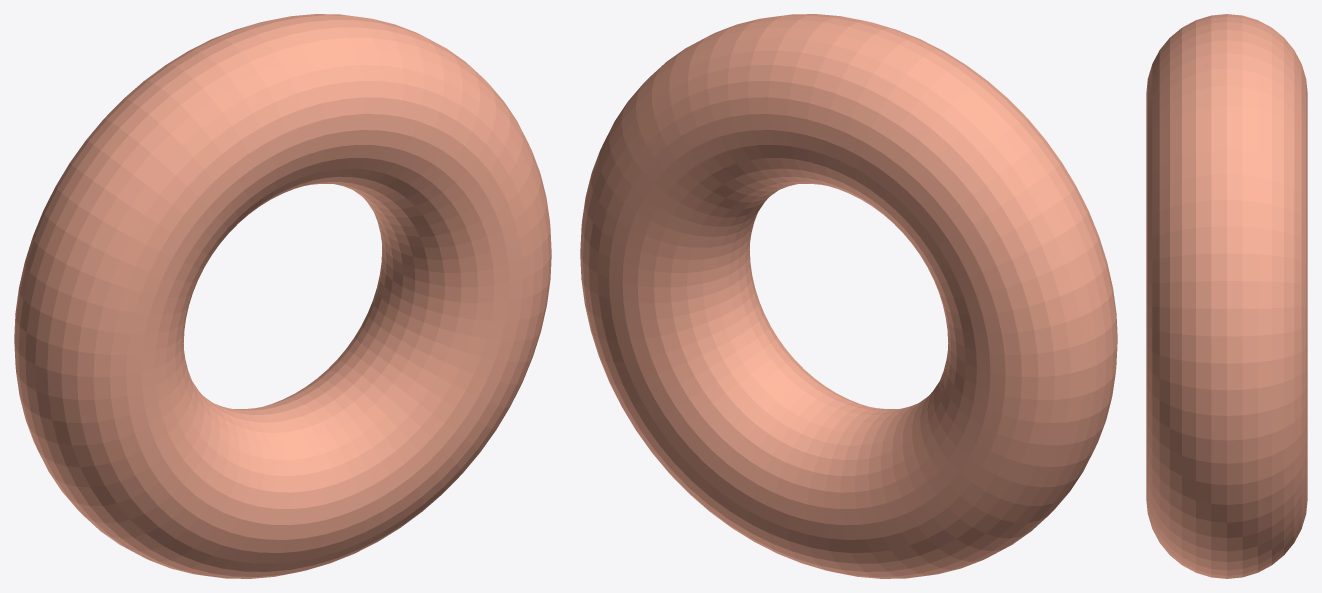
The model's file is donut.glb.
3 renders of one model, left to right at view 1: azimuth 30°, elevation 25°; view 2: azimuth 150°, elevation 25°; view 3: azimuth 270°, elevation 25°, orthographic. The views are drawn at different scales.
Visible parts, largest first — view 1: world; view 2: world; view 3: world.
Boxes of the visible parts, x1,y1,x2,y2 form: world: (14, 14, 551, 578); world: (580, 14, 1117, 578); world: (1146, 14, 1307, 578).
Bounding box in the file's own units: 2.8 × 2.8 × 0.8.
